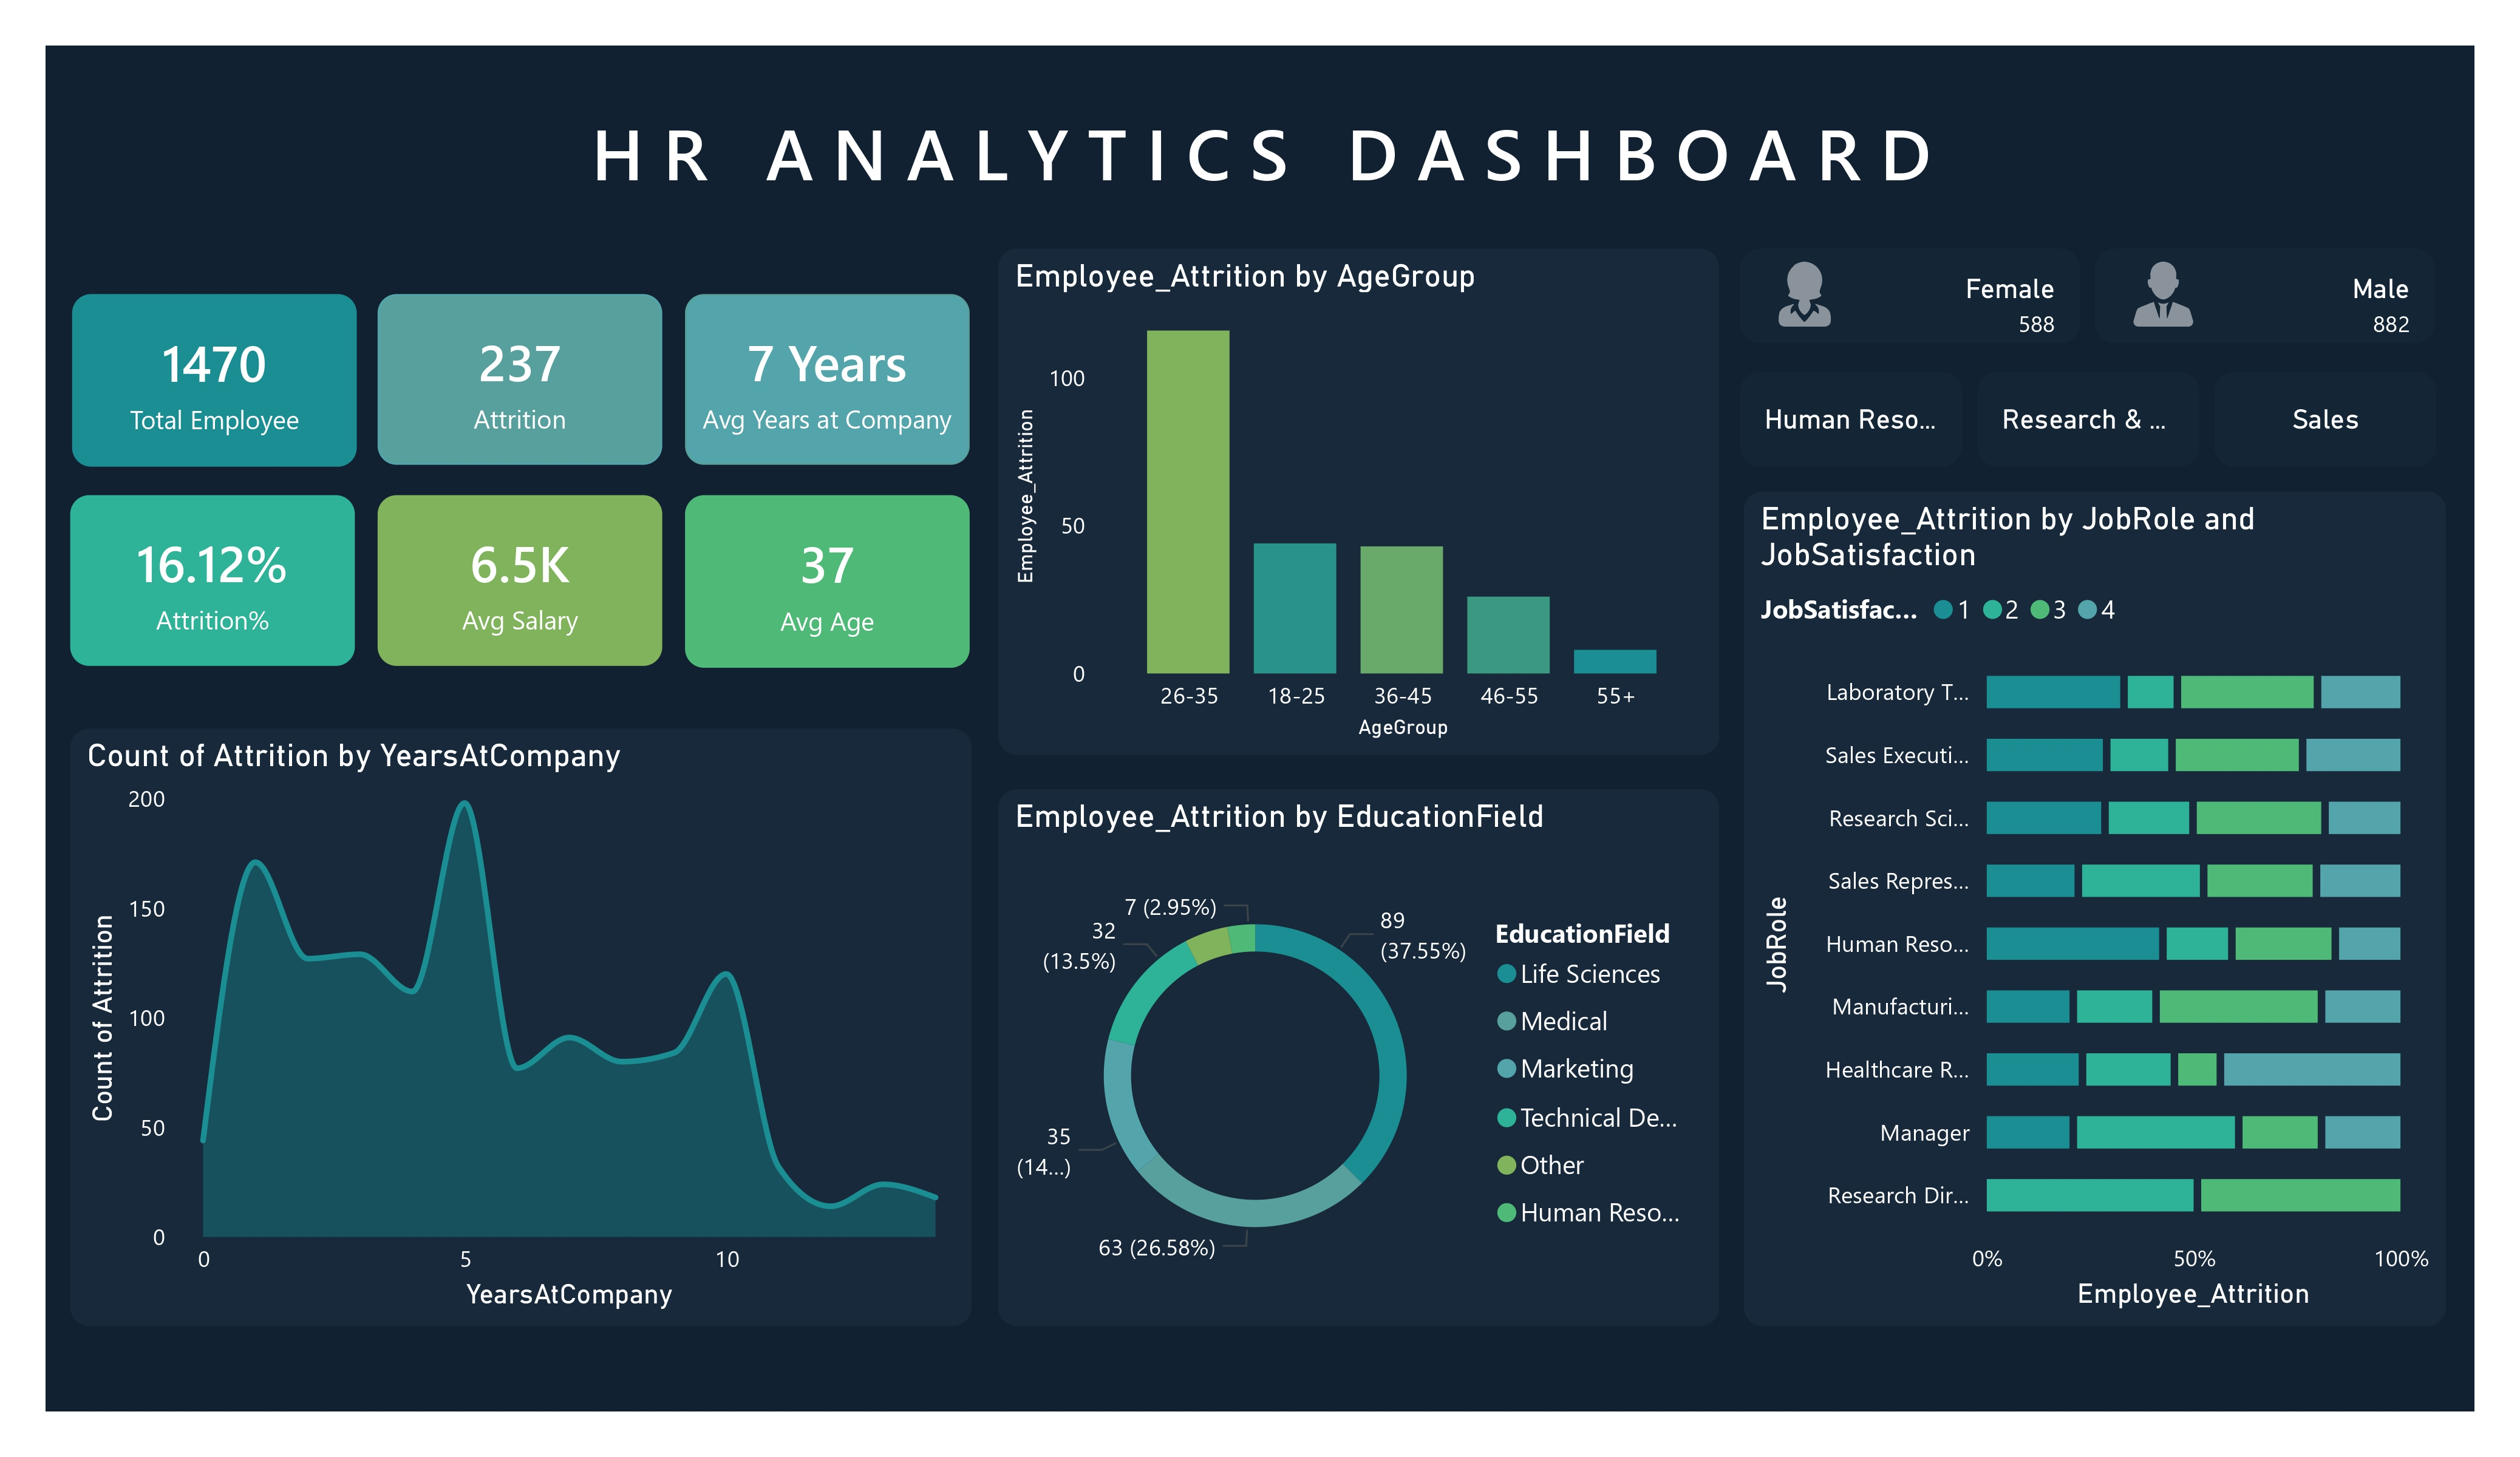

The dashboard page shown, as its layout file describes it:
{"tool":"powerbi","page":{"name":"Page 1","canvas":[1280,720],"ordinal":0},"visuals":[{"type":"image","box":[904.8,108.8,44.5,44.5],"z":0},{"type":"image","box":[1093,108.8,45.5,44.5],"z":1000},{"type":"areaChart","fields":{"Y":["CountNonNull(HR_Analytics.Attrition)"],"Category":["HR_Analytics.YearsAtCompany"]},"box":[13.4,360,475,315],"z":2000},{"type":"card","fields":{"Values":["HR_Analytics.Employee_Count"]},"box":[13.6,131.2,150,90.6],"z":3000},{"type":"card","fields":{"Values":["HR_Analytics.Years_With_Text"]},"box":[336.8,131.4,150,90],"z":4000},{"type":"card","fields":{"Values":["HR_Analytics.Attrition%"]},"box":[13.2,236.8,150,90],"z":5000},{"type":"card","fields":{"Values":["HR_Analytics.Avg_Salary"]},"box":[174.5,236.8,150,90],"z":6000},{"type":"card","fields":{"Values":["HR_Analytics.Avg_Age"]},"box":[336.8,236.8,150,90.8],"z":7000},{"type":"card","fields":{"Values":["HR_Analytics.Employee_Attrition"]},"box":[174.5,131.4,150,90],"z":8000},{"type":"donutChart","fields":{"Y":["HR_Analytics.Employee_Attrition"],"Category":["HR_Analytics.EducationField"]},"box":[502,392,380,283.1],"z":9000},{"type":"columnChart","fields":{"Category":["HR_Analytics.AgeGroup"],"Y":["HR_Analytics.Employee_Attrition"]},"box":[502,107.4,380,266.2],"z":10000},{"type":"hundredPercentStackedBarChart","fields":{"Y":["HR_Analytics.Employee_Attrition"],"Category":["HR_Analytics.JobRole"],"Series":["HR_Analytics.JobSatisfaction"]},"box":[894.8,235.4,370,440],"z":11000},{"type":"advancedSlicerVisual","fields":{"Values":["HR_Analytics.Gender"]},"box":[887.7,101.8,377.1,60],"z":12000},{"type":"textbox","box":[1.4,25.7,1278.6,64.3],"z":13000},{"type":"advancedSlicerVisual","fields":{"Values":["HR_Analytics.Department"]},"box":[887.7,166.8,377.1,60],"z":14000}]}

Visuals, with their boxes in screenshot pixels (x1, y1, x2, y2):
image: rect(1762, 252, 1847, 336)
image: rect(2120, 252, 2206, 336)
areaChart - CountNonNull(HR_Analytics.Attrition) x HR_Analytics.YearsAtCompany: rect(71, 728, 972, 1326)
card - HR_Analytics.Employee_Count: rect(72, 294, 356, 466)
card - HR_Analytics.Years_With_Text: rect(685, 295, 969, 466)
card - HR_Analytics.Attrition%: rect(70, 495, 355, 665)
card - HR_Analytics.Avg_Salary: rect(376, 495, 661, 665)
card - HR_Analytics.Avg_Age: rect(685, 495, 969, 667)
card - HR_Analytics.Employee_Attrition: rect(376, 295, 661, 466)
donutChart - HR_Analytics.Employee_Attrition x HR_Analytics.EducationField: rect(998, 789, 1719, 1326)
columnChart - HR_Analytics.AgeGroup x HR_Analytics.Employee_Attrition: rect(998, 250, 1719, 754)
hundredPercentStackedBarChart - HR_Analytics.Employee_Attrition x HR_Analytics.JobRole: rect(1743, 492, 2446, 1327)
advancedSlicerVisual - HR_Analytics.Gender: rect(1730, 239, 2446, 353)
textbox: rect(48, 94, 2474, 216)
advancedSlicerVisual - HR_Analytics.Department: rect(1730, 362, 2446, 476)
